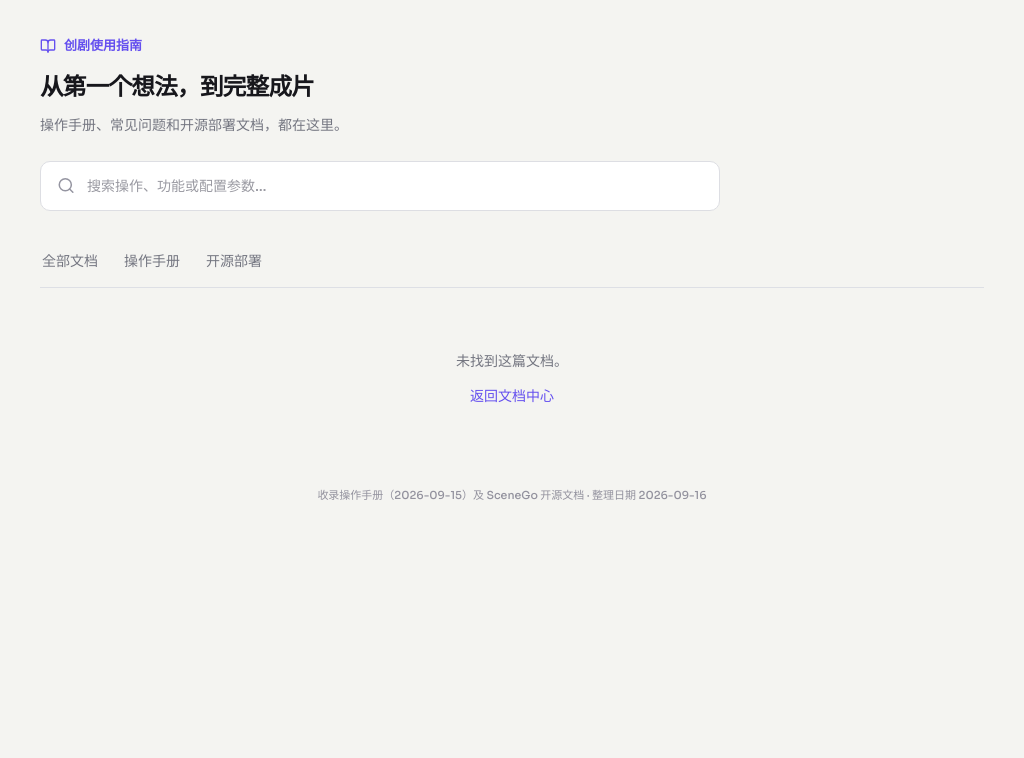
Chinese help center › explains missing articles and empty search results
The width and height of the screenshot is (1024, 758).
Expected: the text "未找到这篇文档。 返回文档中心" is shown, [456, 352, 568, 405]
Click the link "返回文档中心".
click(512, 396)  # box [470, 387, 554, 405]
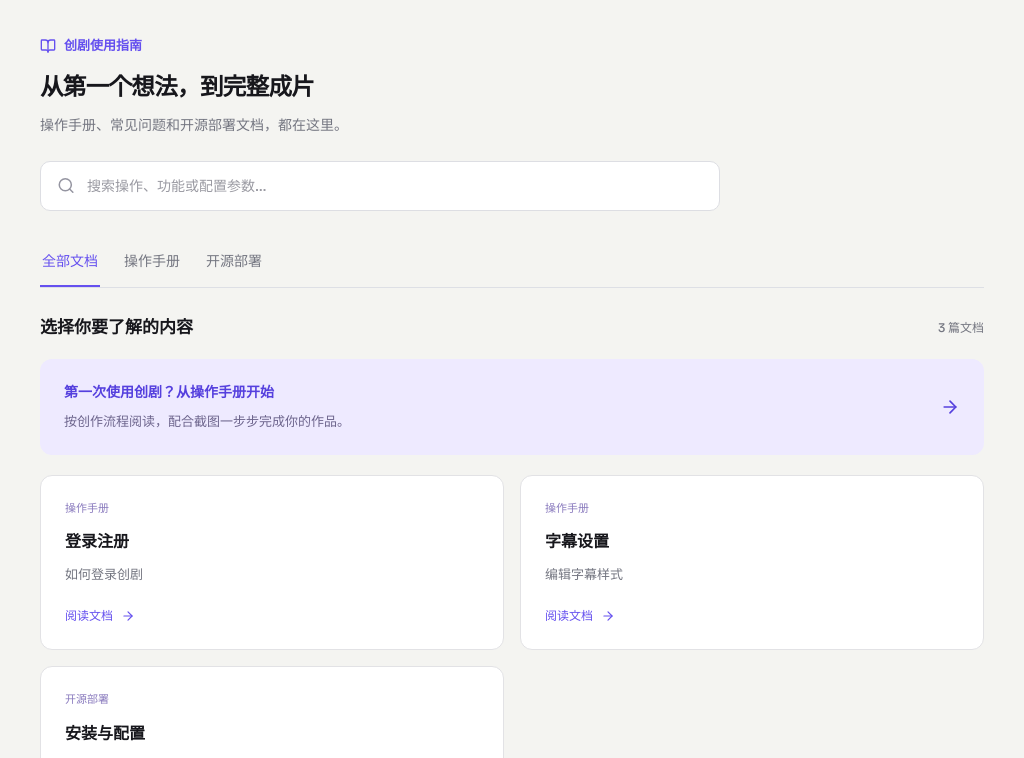
Type "不存在的内容" into the field named "搜索帮助文档".
click(395, 186); type("不存在的内容")  # box [87, 162, 703, 210]
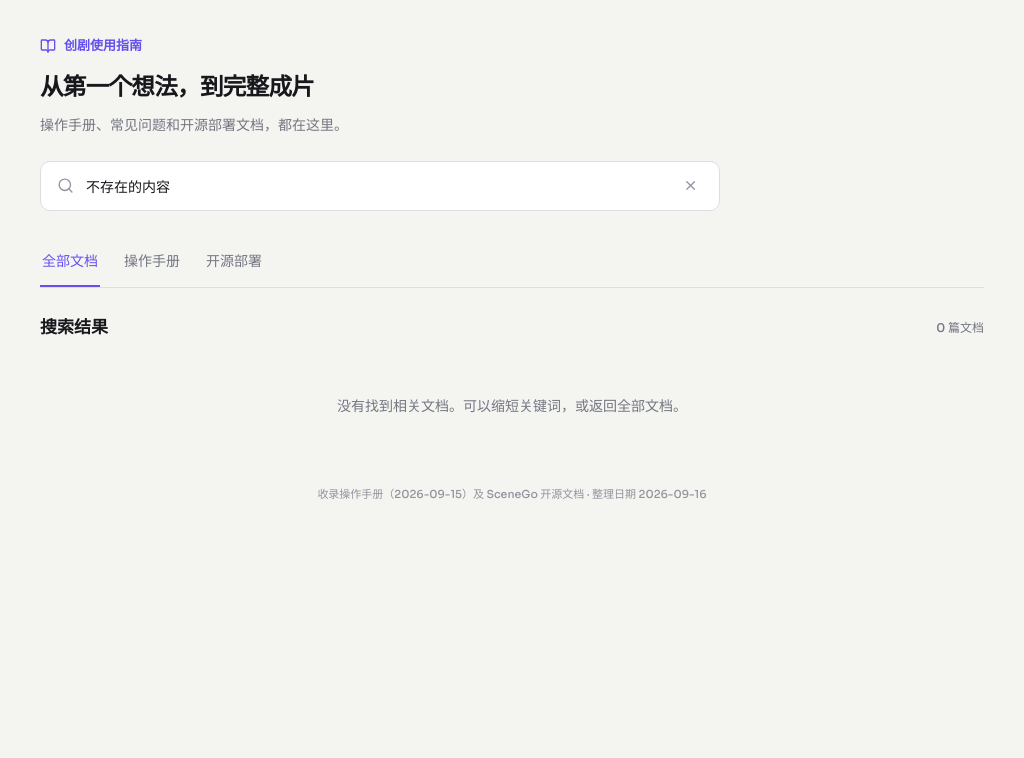
Expected: the text "没有找到相关文档。可以缩短关键词，或返回全部文档。" is shown, [337, 397, 687, 415]
